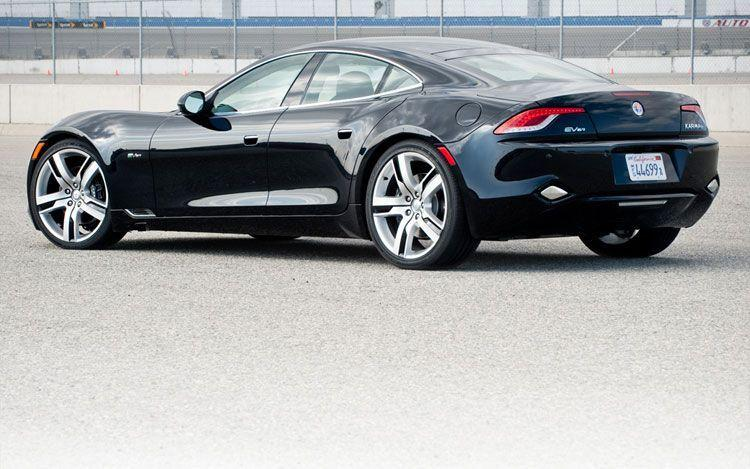car: (27, 30, 723, 272)
